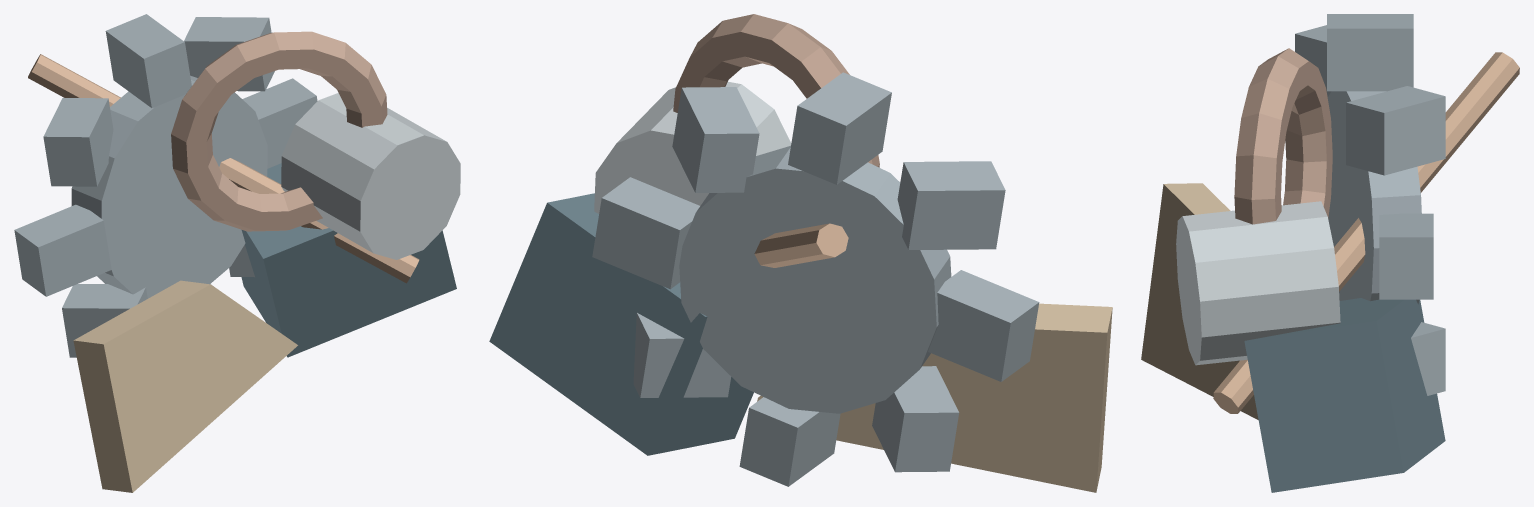
File: scrap_mid.gltf
3 renders of one model, left to right at view 1: azimuth 30°, elevation 25°; view 2: azimuth 150°, elevation 25°; view 3: azimuth 270°, elevation 25°, orthographic. The views are drawn at different scales.
Visible parts, largest first — view 1: scrap_mid; view 2: scrap_mid; view 3: scrap_mid.
Boxes of the visible parts, box(x1,y1,x2,y2) form: scrap_mid: box(14, 14, 460, 492); scrap_mid: box(489, 14, 1112, 492); scrap_mid: box(1141, 14, 1519, 492).
Bounding box in the file's own units: 1.55 × 1.29 × 1.05.
